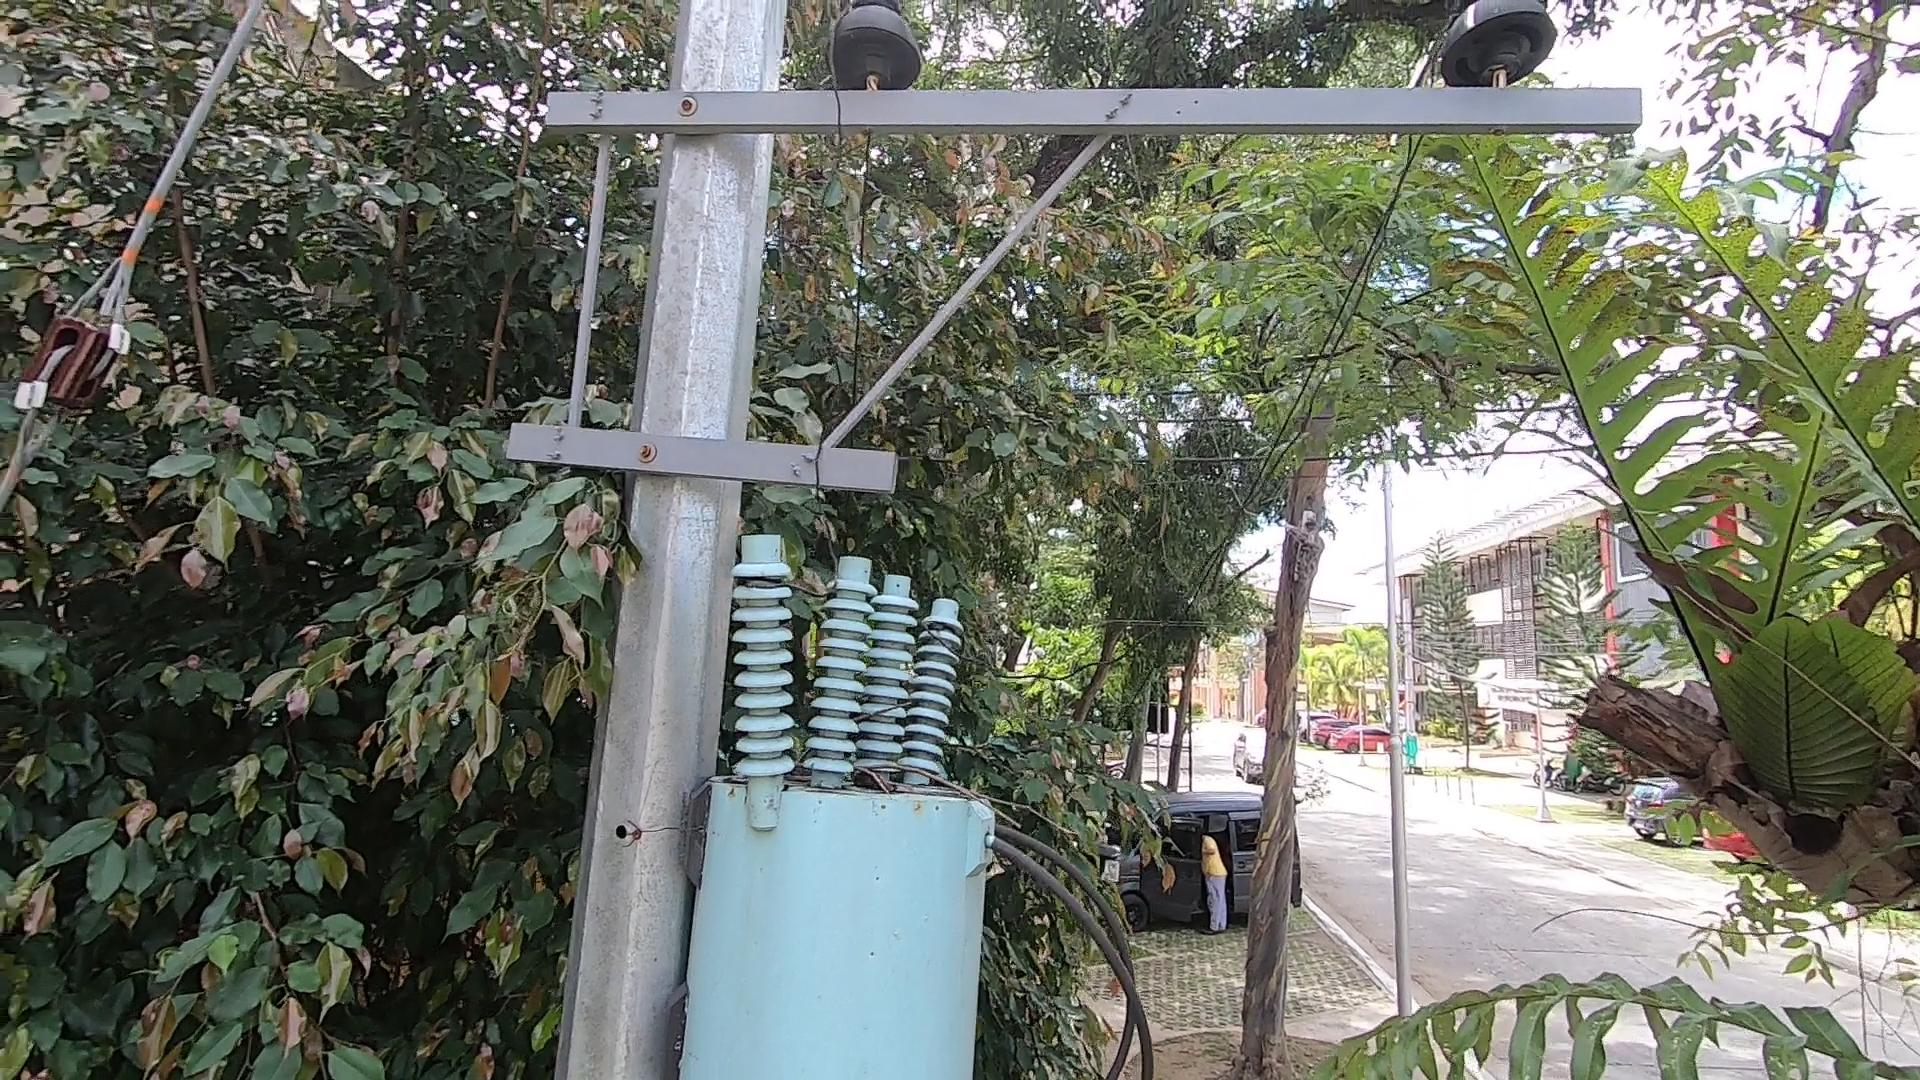leaf: (836, 767, 897, 798)
tree branch: (794, 741, 1085, 847)
